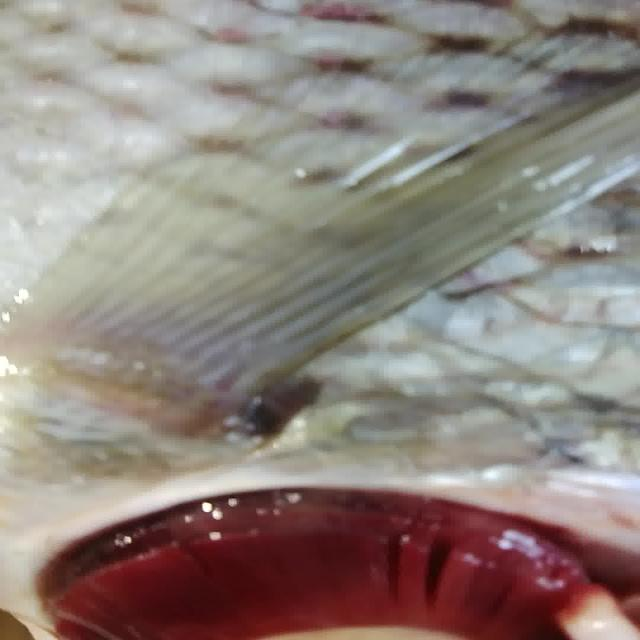Fresh: (24, 483, 617, 640)
